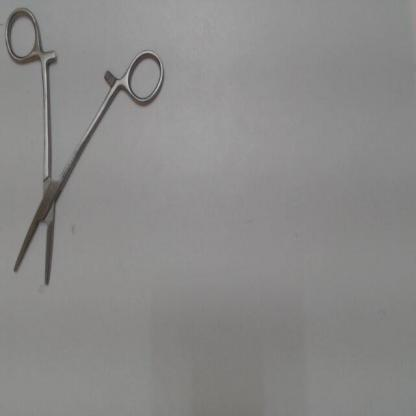Mayo Needle Holder: (2, 2, 170, 302)
